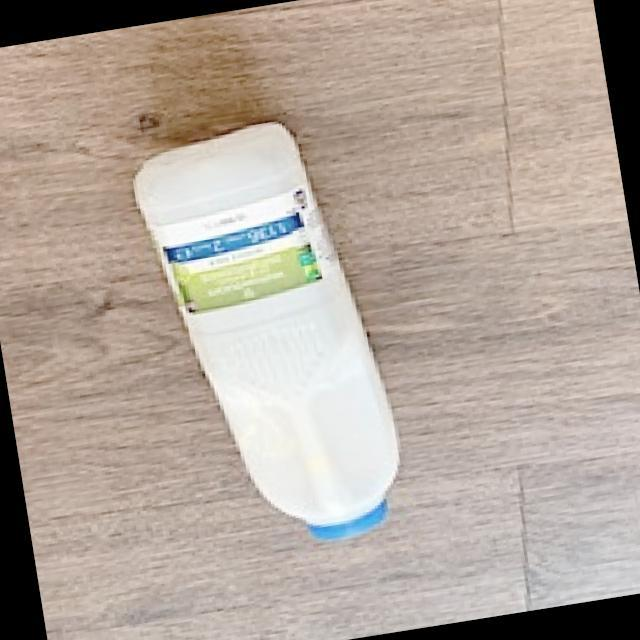HDPE Plastic: (127, 116, 406, 546)
